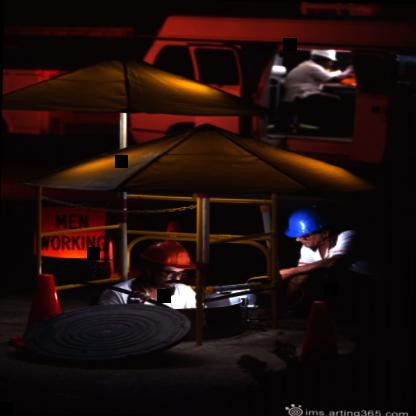helmet: (128, 237, 198, 290), (280, 206, 340, 252), (308, 43, 344, 72)
